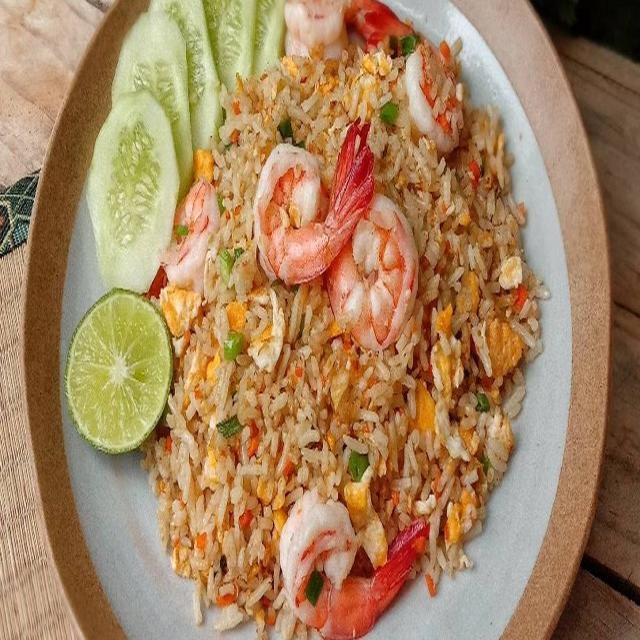carb: (149, 217, 289, 625), (429, 140, 547, 558), (261, 311, 427, 497), (242, 54, 420, 193)
fried rice: (175, 75, 547, 624)
meat: (286, 503, 398, 640), (338, 188, 426, 358), (263, 137, 345, 295), (404, 17, 464, 148), (290, 0, 376, 56)
vegetable: (340, 442, 384, 494), (225, 318, 248, 369), (218, 401, 247, 441)
